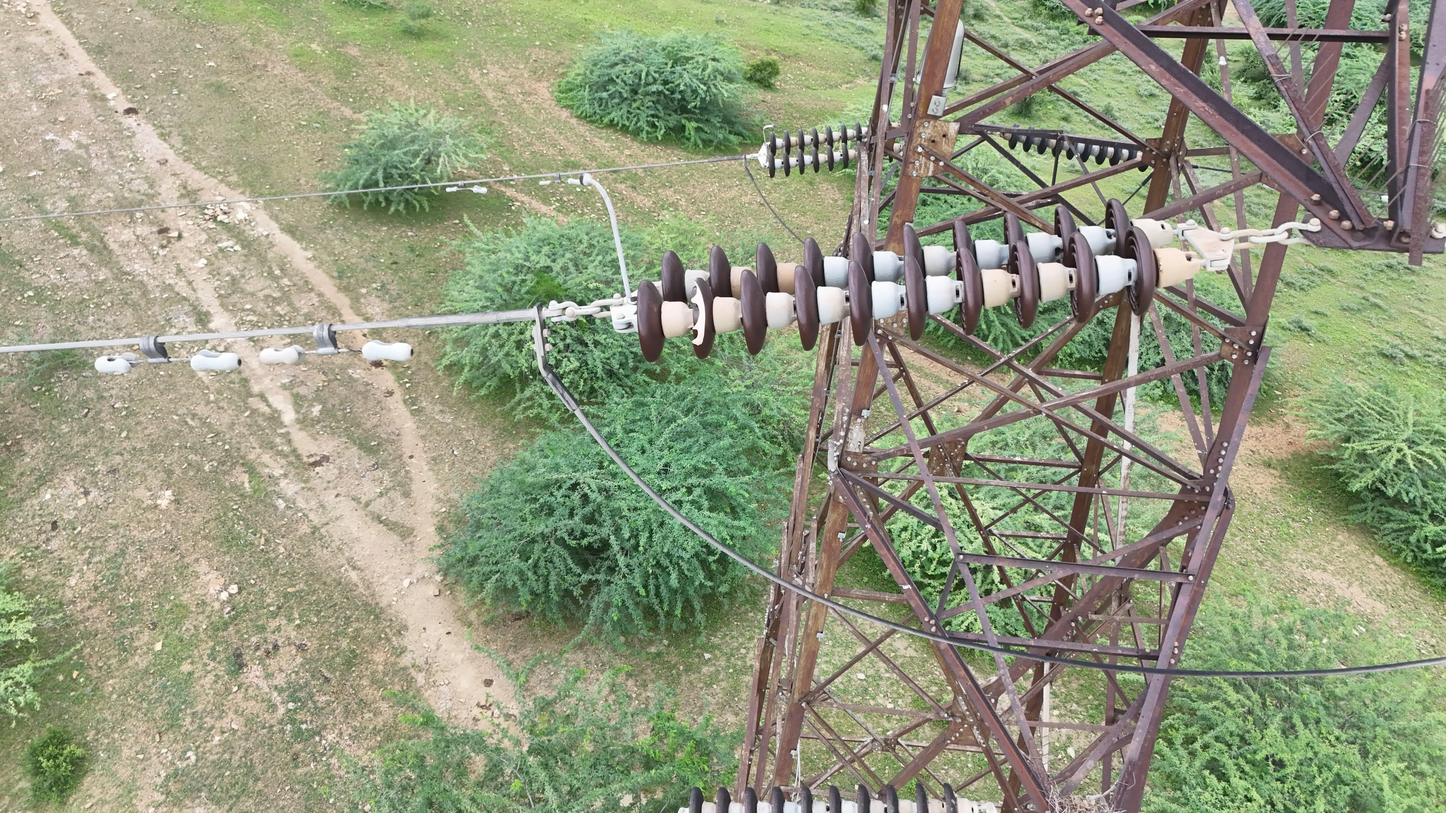broken_insulator: (674, 275, 727, 363)
